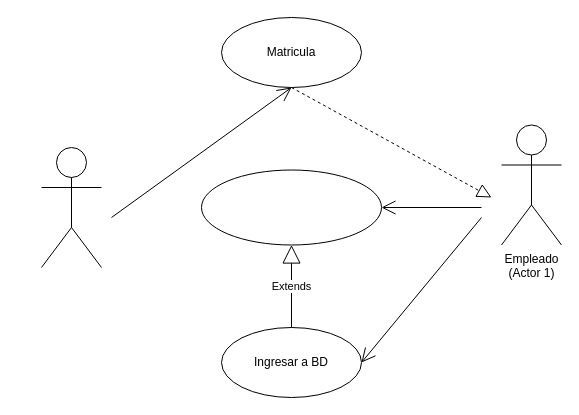
Some shapes in this 579 by 415 pixel diagram are drawn without their labels. Here are the shapes that lost their labels. From the top down, the centre of each, then its label:
the point at 71,207: Padre de Estudiante (Actor 2)
the point at 291,207: Asigna seccion, cursos y maestro guia
